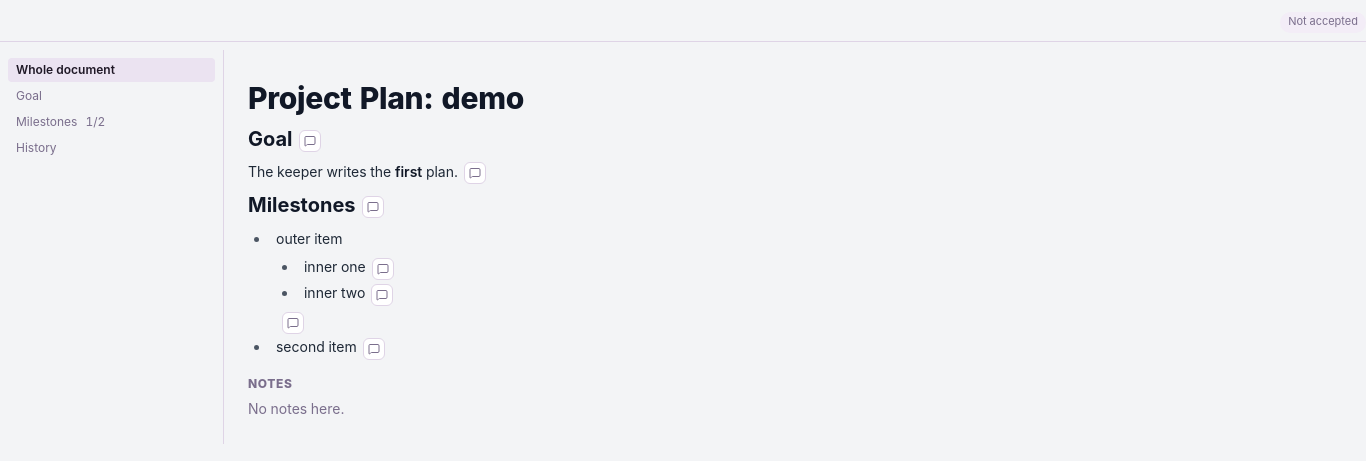
a container opens as its whole subtree, and the innermost block wins › clicking a parent's OWN line opens the bullet and everything under it
Check: the element with test id "plan-body" is shown, box top-left (248, 78), bottom-right (524, 360)
What coordinates should you click on to do the following:
click the list item "outer item inner one inner two"
I would click on:
 (335, 282)
Its box is top-left (276, 230), bottom-right (394, 334).
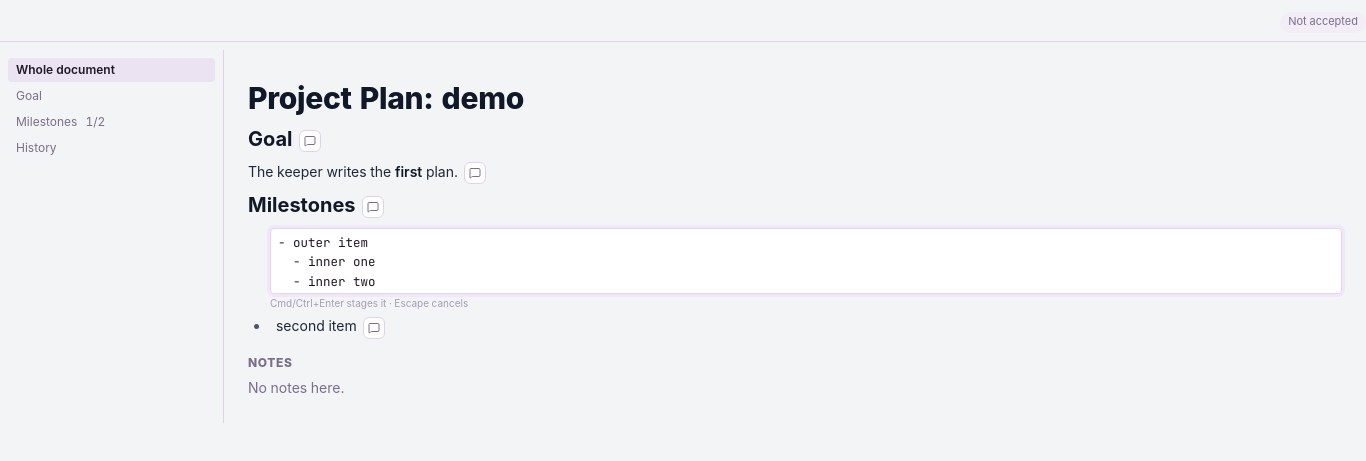
Check: the number of text boxes named "Markdown for this" is 1, box top-left (270, 228), bottom-right (1342, 294)
